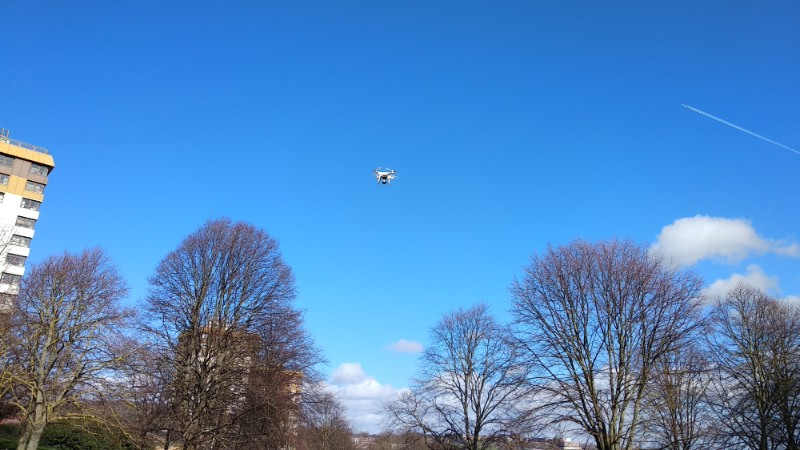drone: (370, 167, 399, 187)
